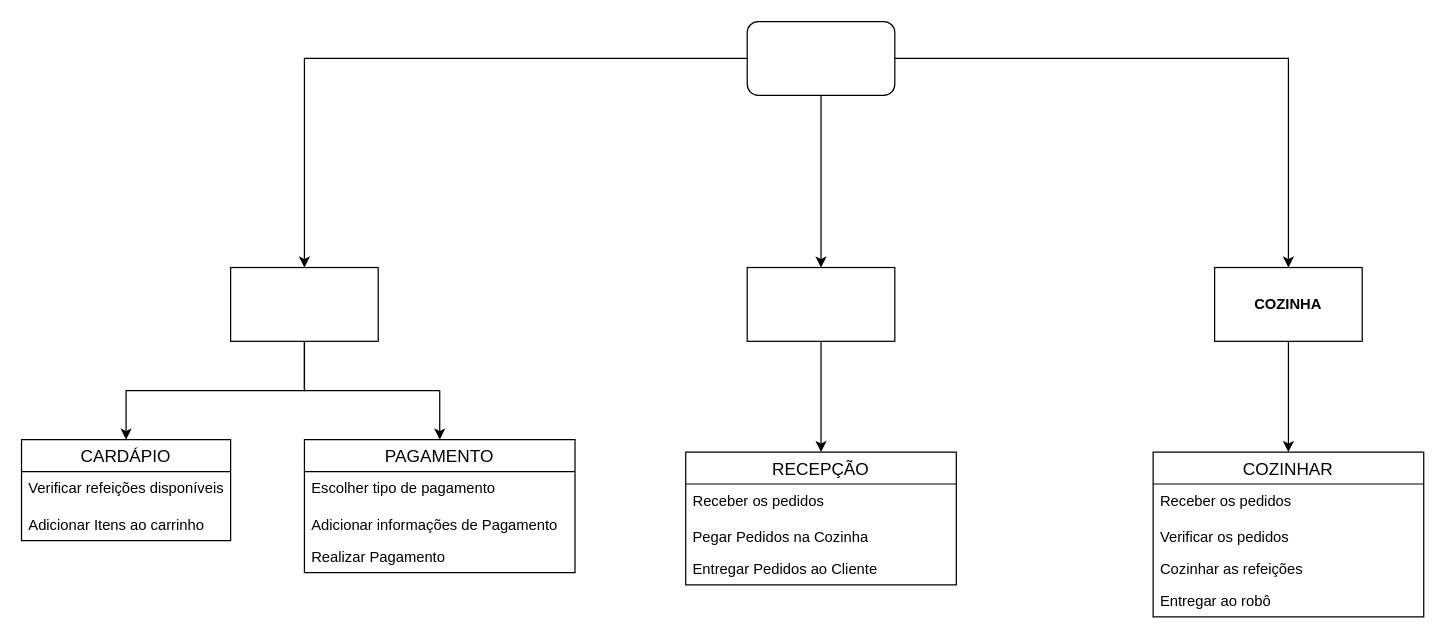
Image size: 1445x642. Some labels were removed from this diagram. Each missing label, with the centre of its shape:
"APP ROBÔ GARÇOM" belongs at [820,57].
"CLIENTE" belongs at [303,303].
"ROBÔ" belongs at [820,303].
